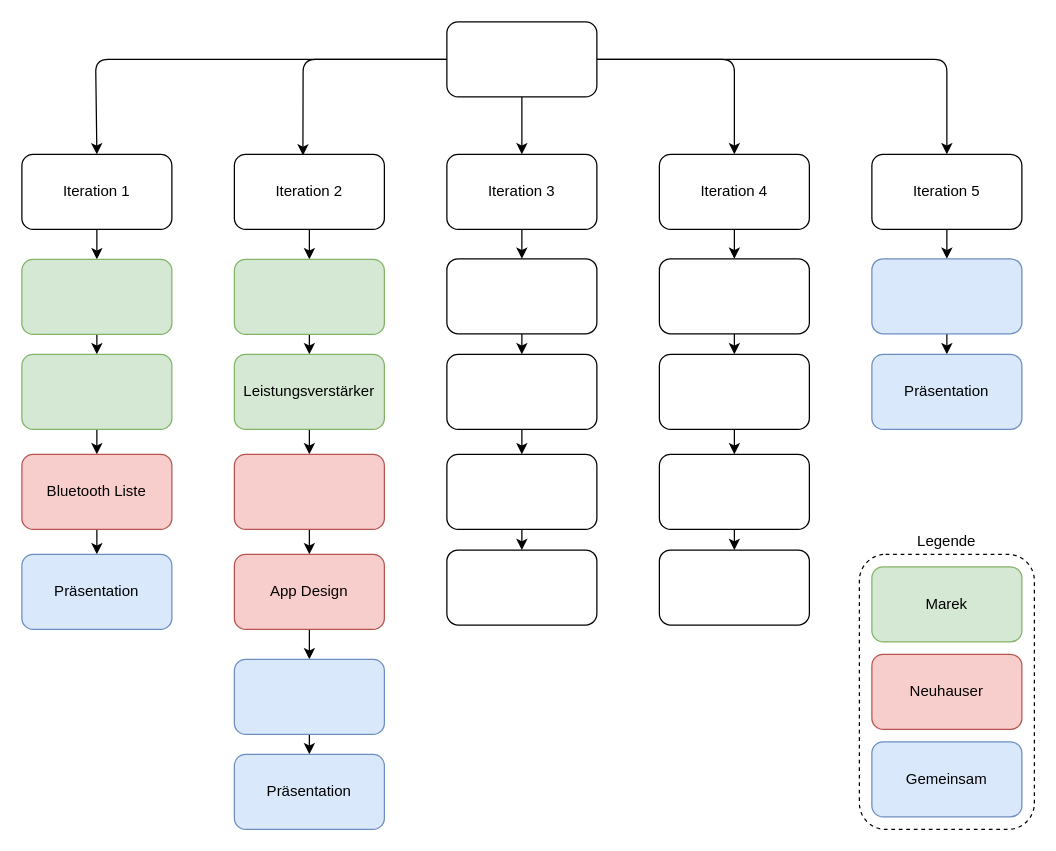
This 1056x851 diagram has some shape labels left out. The box of each missing label's shape, as (x1, y1, x2, y2) in pixels:
Bluetooth Kommunikation: (233, 453, 384, 529)
Dokumentation: (871, 258, 1022, 334)
Empfänger: (233, 258, 384, 334)
FunkY: (446, 21, 597, 97)
Kleinsignal Verstärker: (21, 353, 172, 429)
Mikrofon: (21, 258, 172, 334)
Website v0: (233, 658, 384, 734)
